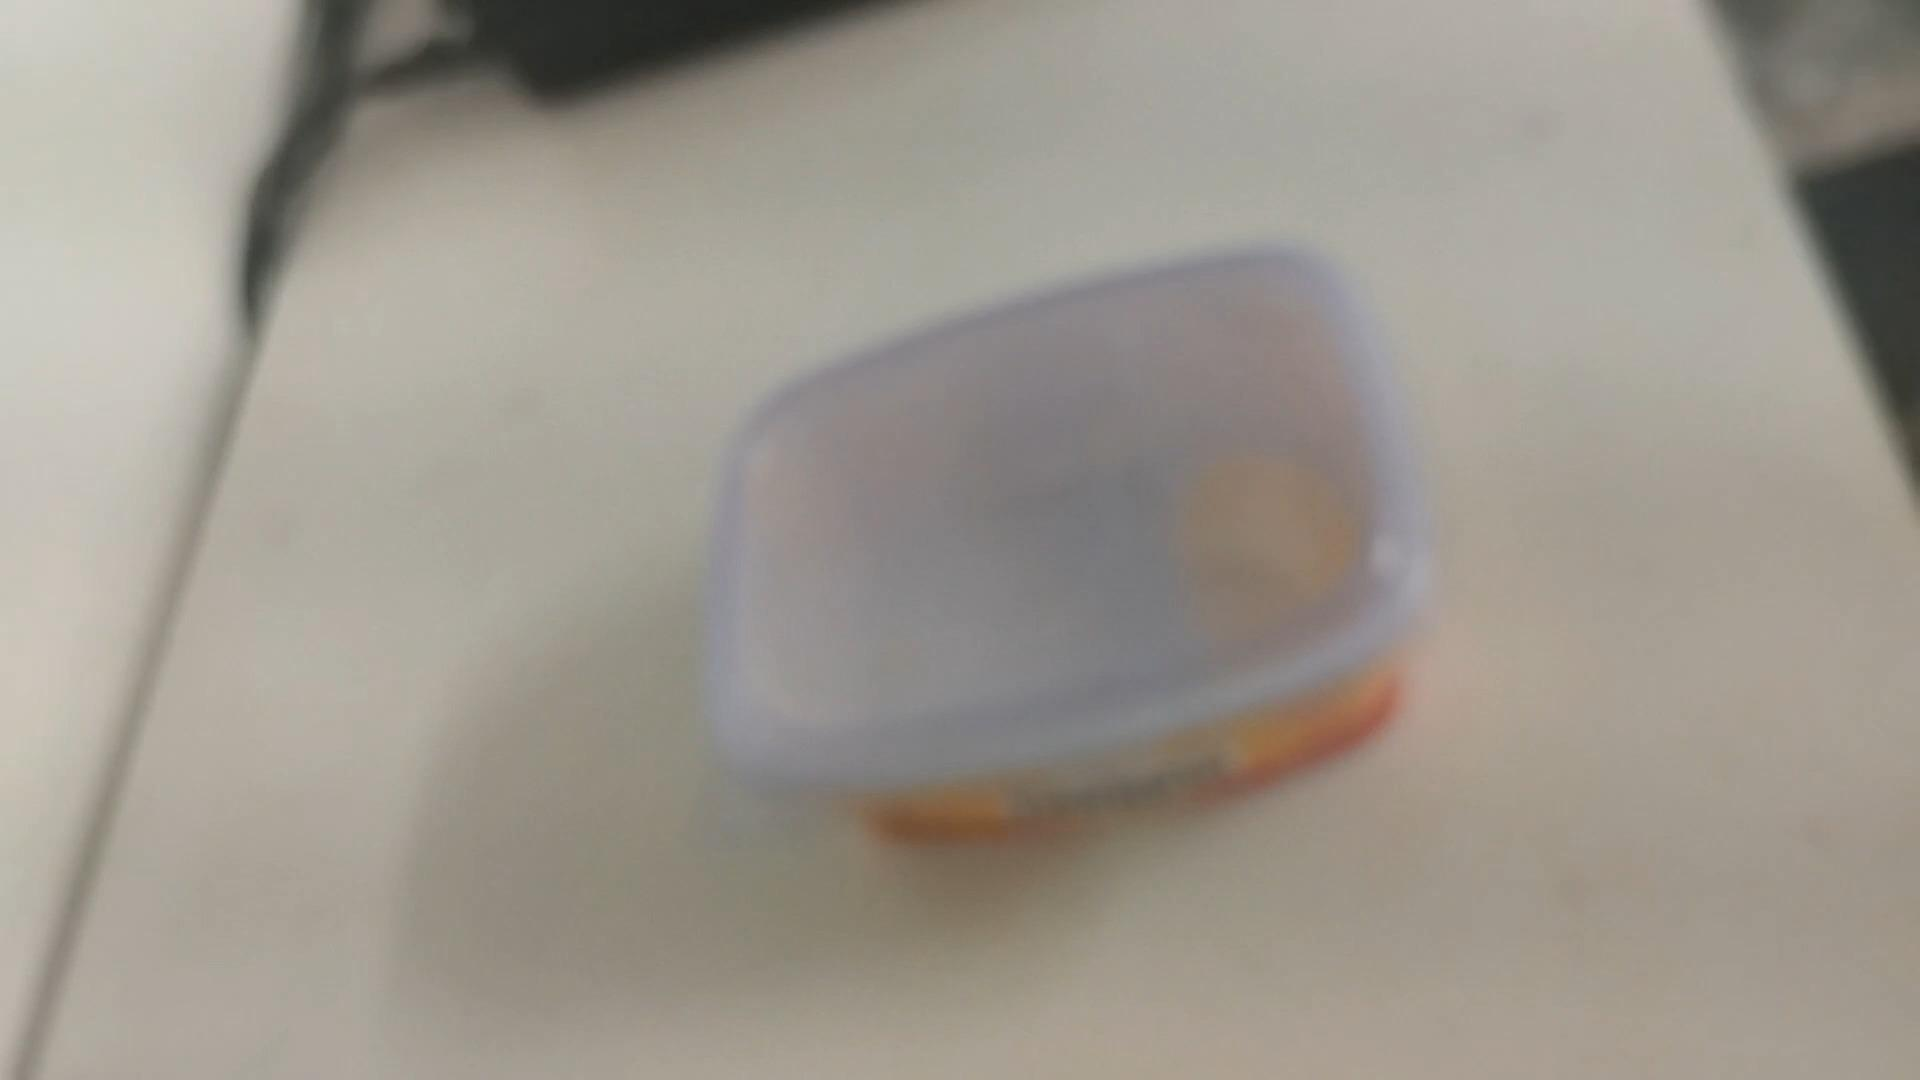butter: (694, 233, 1452, 860)
